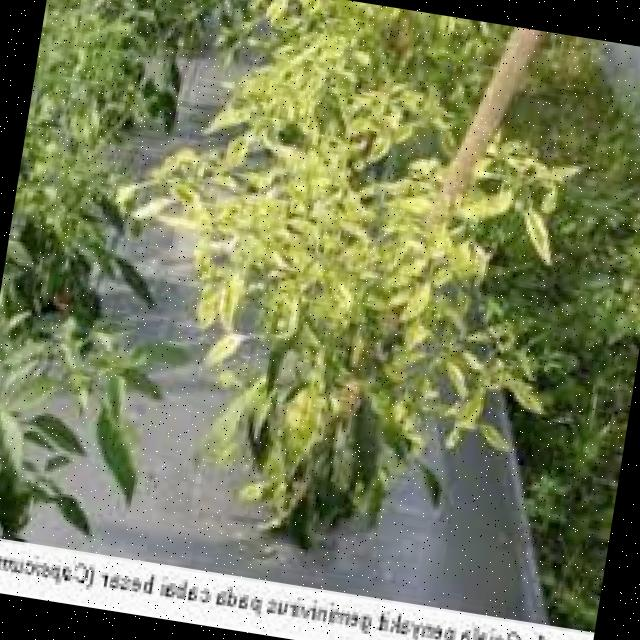yellow: (57, 0, 618, 578)
